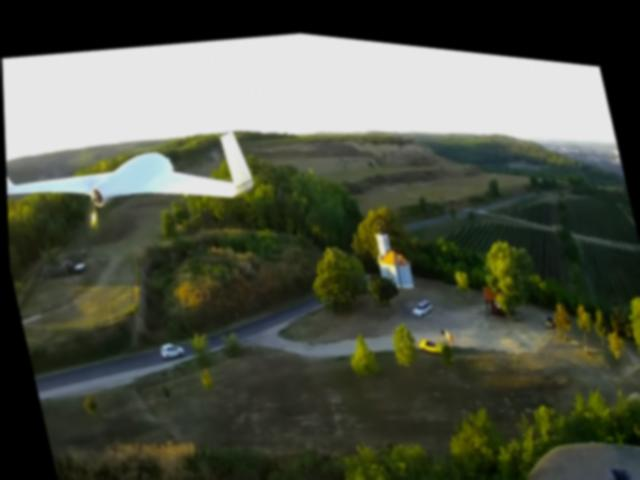plane: (3, 105, 255, 241)
